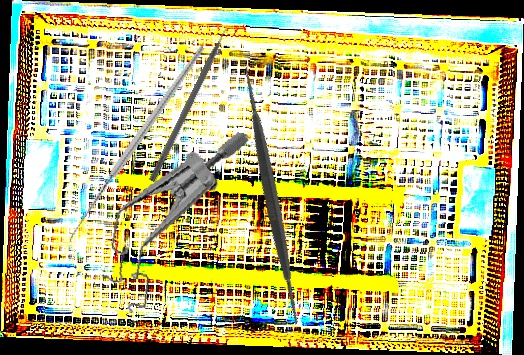Chopper: (148, 19, 242, 187)
Hook Surgical: (18, 45, 259, 251)
Spatula Surgical: (129, 53, 414, 338)
Speculum: (93, 110, 252, 330)
